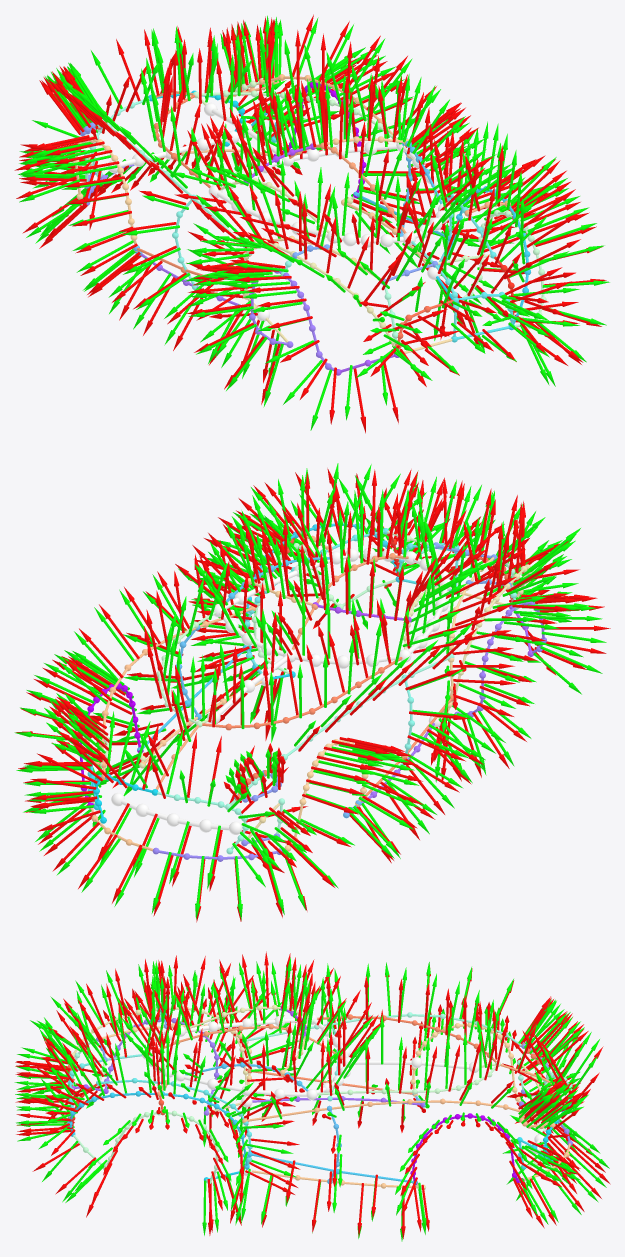
The model's file is ils_roadster.gltf.
3 renders of one model, top to bottom at view 1: azimuth 30°, elevation 25°; view 2: azimuth 150°, elevation 25°; view 3: azimuth 270°, elevation 25°, orthographic. The views are drawn at different scales.
Size of the model in its own units: 0.59 by 0.4224 by 1.06.
